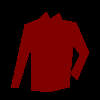abbigliamento_uomo: (10, 11, 89, 92)
